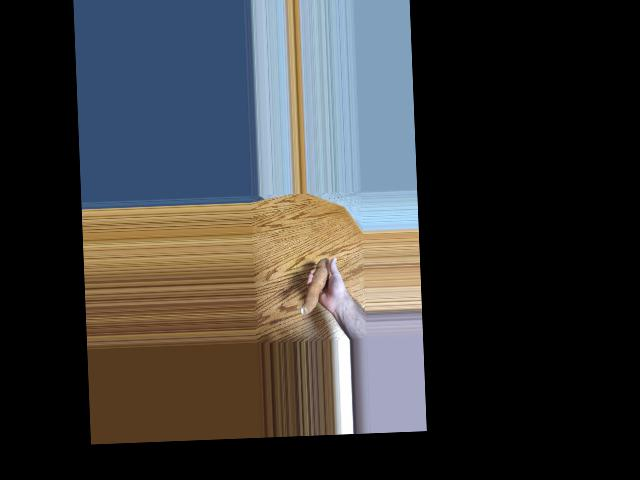sweet_potato: (299, 255, 330, 315)
